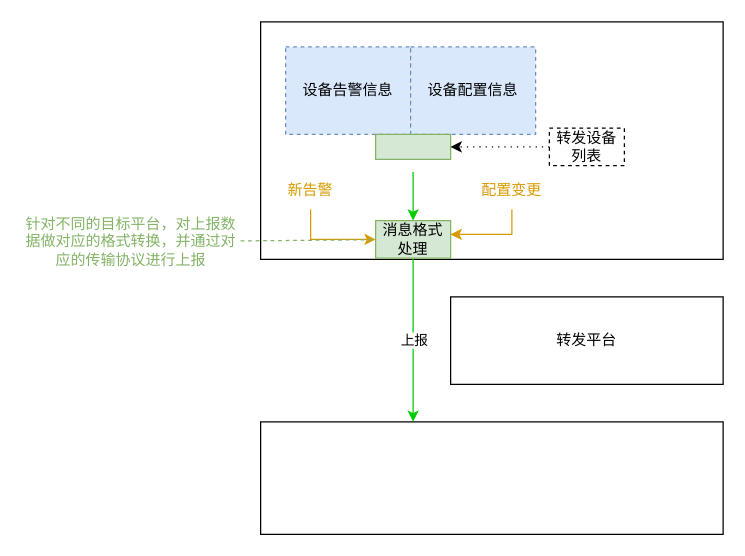
This 745x556 diagram has some shape labels left out. Each missing label, with the box of its shape:
其他平台: (259, 421, 723, 534)
定时任务: (374, 133, 451, 159)
快控云平台: (259, 21, 723, 259)
